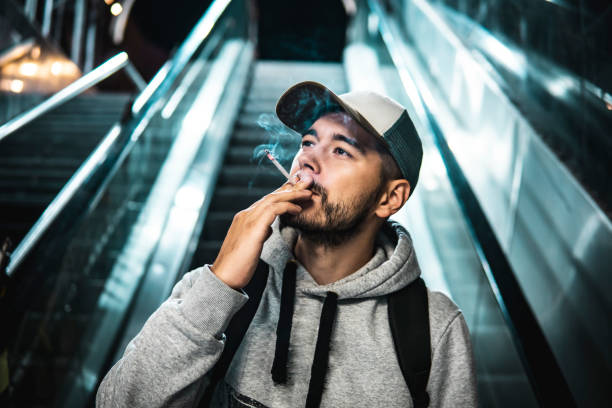cigarette: (267, 152, 299, 187)
